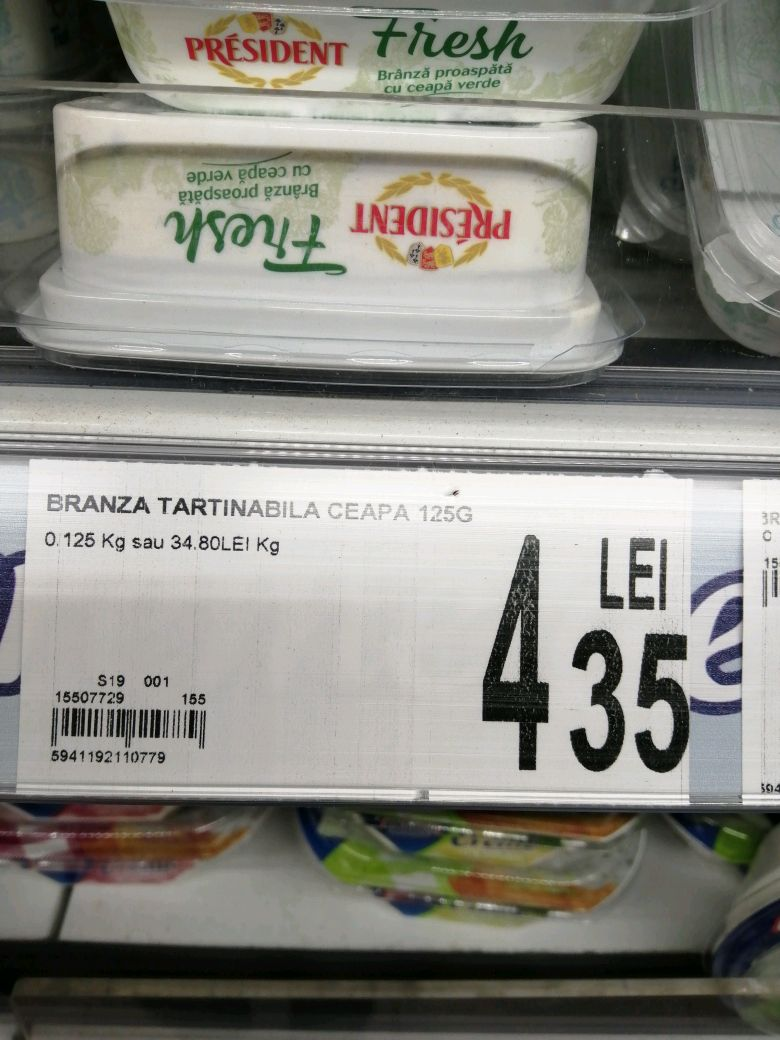price_bani: (567, 621, 697, 790)
price_lei: (471, 532, 555, 780)
price_tag: (13, 452, 701, 814)
product_id: (43, 746, 176, 768)
product_name: (31, 488, 484, 528)
